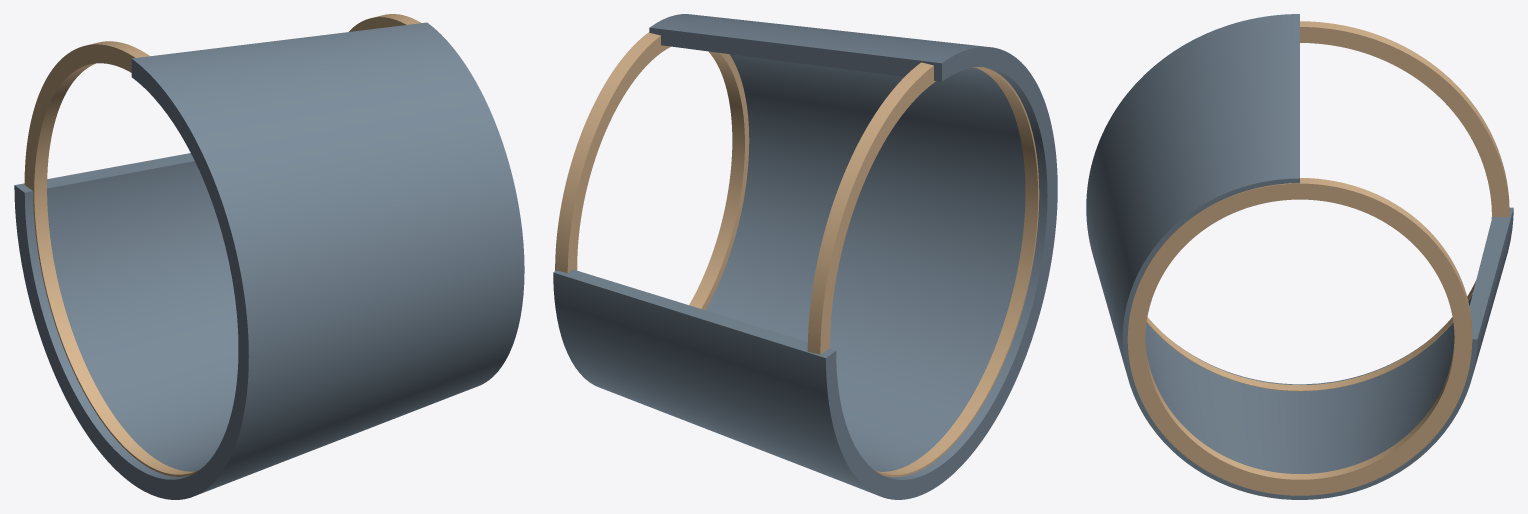
The model's file is intake-duct.glb.
3 views of the same model, side by side, from view 1: azimuth 30°, elevation 25°; view 2: azimuth 150°, elevation 25°; view 3: azimuth 270°, elevation 25° (orthographic). The views are drawn at different scales.
Visible parts, largest first — view 1: intake-duct - shell, intake-duct - bronze; view 2: intake-duct - shell, intake-duct - bronze; view 3: intake-duct - shell, intake-duct - bronze.
Part boxes in pixels (left/top/right/bottom): intake-duct - shell: left=14, top=22, right=524, bottom=499; intake-duct - bronze: left=24, top=14, right=421, bottom=476; intake-duct - shell: left=553, top=14, right=1057, bottom=499; intake-duct - bronze: left=555, top=32, right=1039, bottom=476; intake-duct - shell: left=1086, top=14, right=1513, bottom=499; intake-duct - bronze: left=1127, top=21, right=1509, bottom=495.
Bounding box in the file's own units: 1.51 × 2.06 × 2.06.
